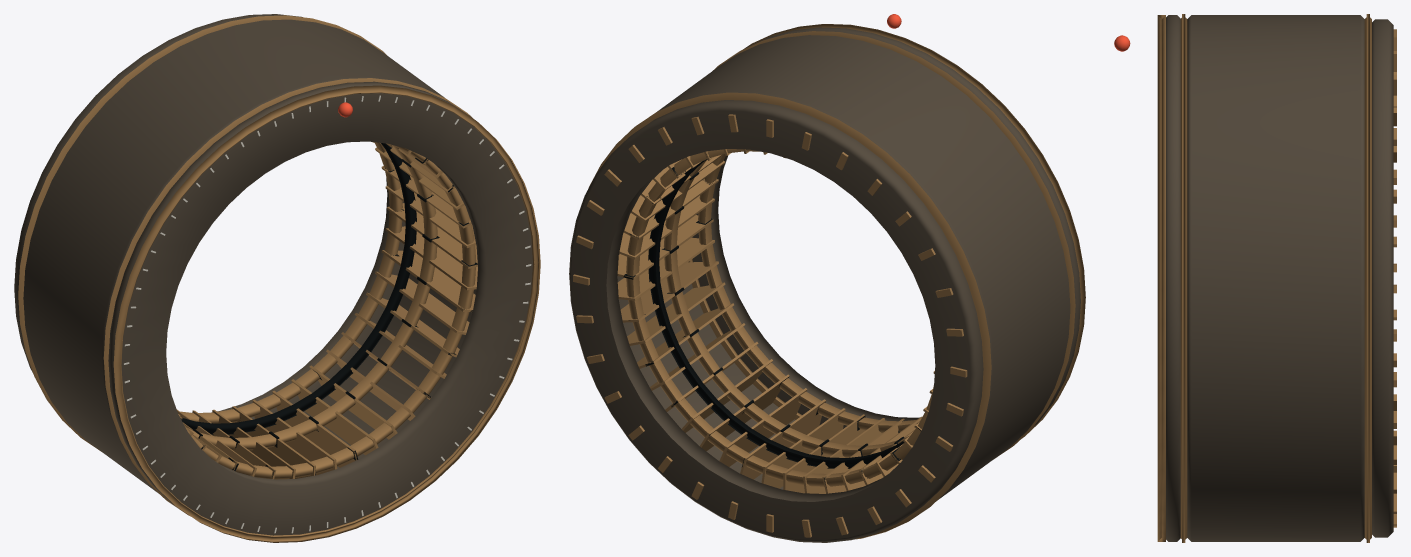
File: heliot-01-low.glb
The picture shows the model from 3 angles, left to right: view 1: azimuth 30°, elevation 25°; view 2: azimuth 150°, elevation 25°; view 3: azimuth 270°, elevation 25°; orthographic projection. The views are drawn at different scales.
Visible parts, largest first — view 1: FrontCrown, Housing, FocusRing, FrontGlass, Mount, Doublet, Iris, RearGlass; view 2: Housing, Mount, FocusRing, FrontCrown, RearGlass, Doublet, Iris, FrontGlass; view 3: Housing, FrontCrown, Mount.
Boxes of the visible parts, x1=… form: FrontCrown: x1=108, y1=81, x2=540, y2=542; Housing: x1=18, y1=15, x2=476, y2=516; FocusRing: x1=176, y1=142, x2=477, y2=479; FrontGlass: x1=180, y1=143, x2=477, y2=479; Mount: x1=14, y1=14, x2=405, y2=419; Doublet: x1=186, y1=146, x2=439, y2=450; Iris: x1=181, y1=143, x2=416, y2=434; RearGlass: x1=178, y1=142, x2=404, y2=423; Housing: x1=588, y1=31, x2=1075, y2=539; Mount: x1=569, y1=100, x2=983, y2=542; FocusRing: x1=617, y1=149, x2=934, y2=493; FrontCrown: x1=692, y1=14, x2=1085, y2=438; RearGlass: x1=623, y1=149, x2=933, y2=487; Doublet: x1=662, y1=160, x2=909, y2=457; Iris: x1=648, y1=159, x2=904, y2=468; FrontGlass: x1=696, y1=154, x2=919, y2=433; Housing: x1=1180, y1=14, x2=1371, y2=542; FrontCrown: x1=1114, y1=15, x2=1180, y2=541; Mount: x1=1372, y1=19, x2=1396, y2=537.
Bounding box in the file's own units: 2.41 × 2.42 × 1.29.
